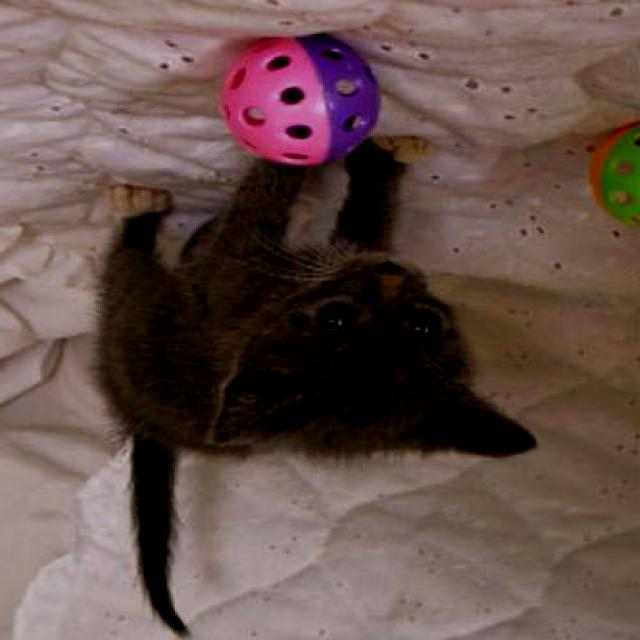Kucing: (27, 188, 546, 563)
